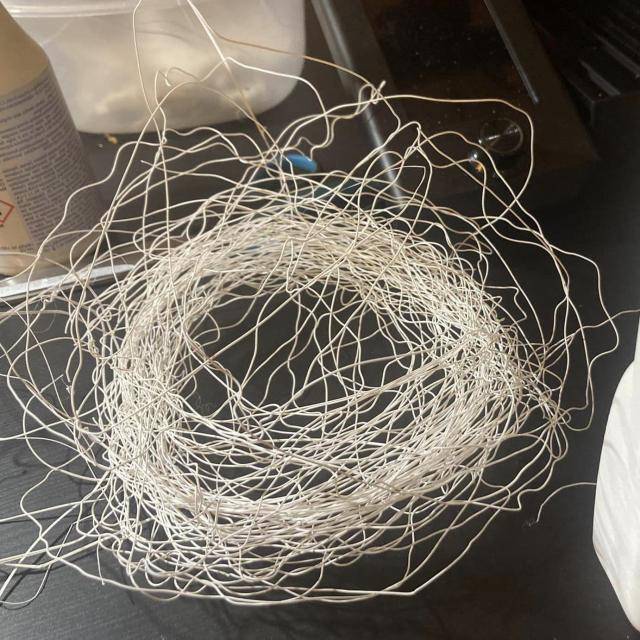Spaghetti: (332, 266, 608, 498), (235, 133, 538, 263), (100, 132, 246, 346), (155, 508, 436, 608), (30, 337, 172, 519), (181, 391, 319, 537), (27, 228, 100, 332)
